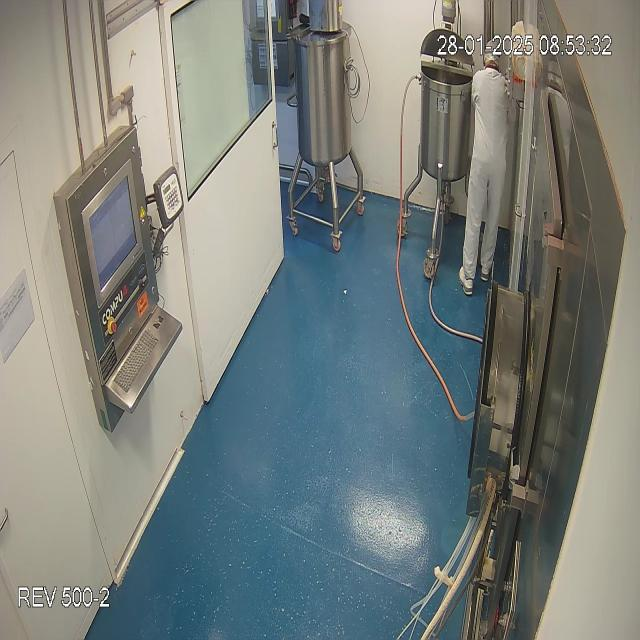bota: (458, 263, 495, 296)
pessoa: (458, 39, 516, 296)
touca: (482, 39, 504, 74)
